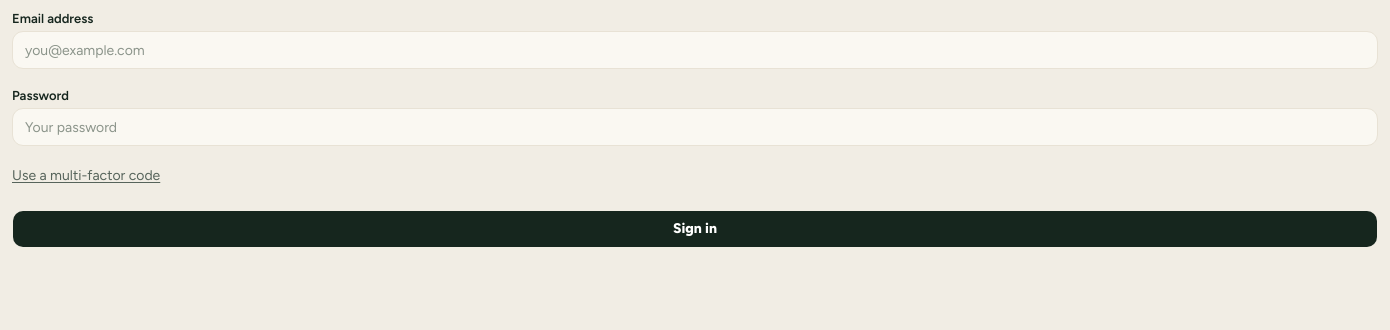
it: LoginForm › renders the error branch on a failed login
Type "admin@example.com" into the field labelled "Email address".
click(695, 50); type("admin@example.com")  # box [12, 31, 1378, 69]
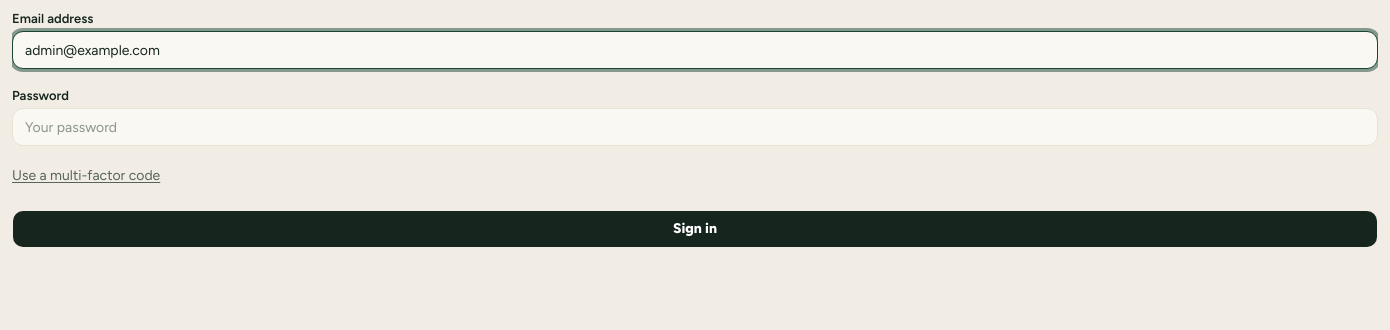
Type "wrongpass" into the password field labelled "Password".
click(695, 127); type("wrongpass")  # box [12, 108, 1378, 146]
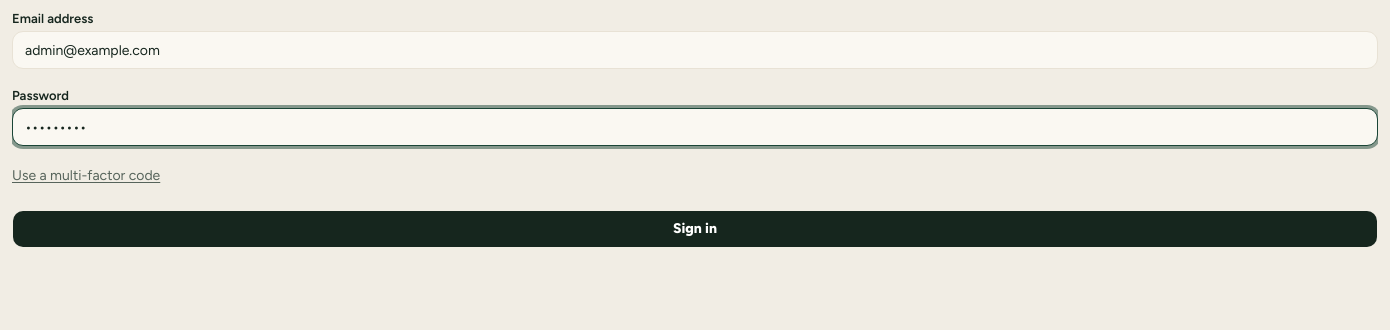
Click the button "Sign in".
click(695, 229)  # box [12, 210, 1378, 248]
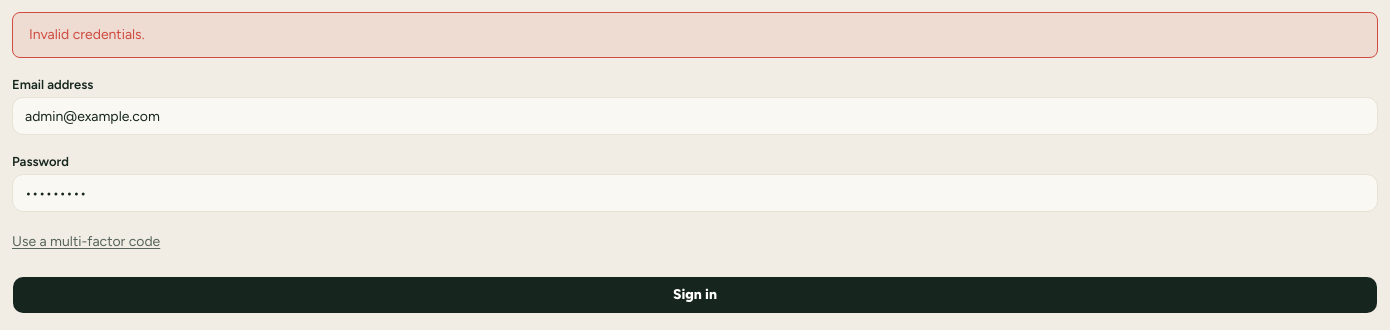
Check: the message reads "Invalid credentials.", box [29, 26, 144, 43]
